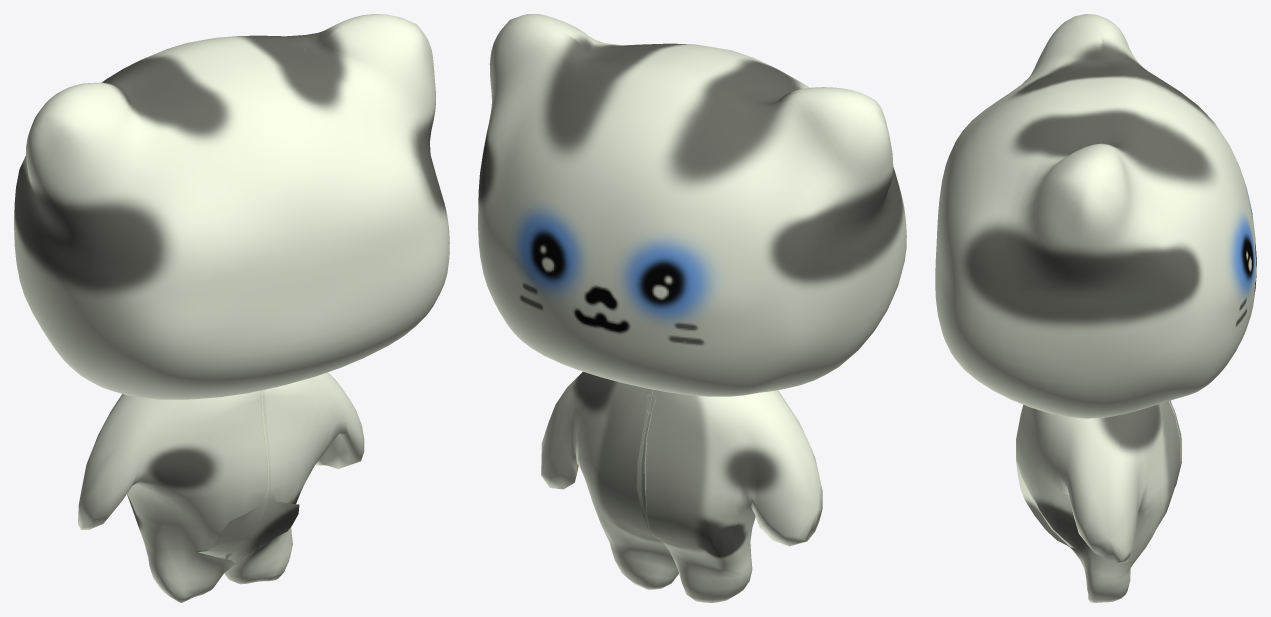
The model's file is White_Cat1.fbx.
3 renders of one model, left to right at view 1: azimuth 30°, elevation 25°; view 2: azimuth 150°, elevation 25°; view 3: azimuth 270°, elevation 25°, orthographic. The views are drawn at different scales.
Parts seen in each view (by area): view 1: Head, Body; view 2: Head, Body; view 3: Head, Body.
Boxes of the visible parts, x1=… form: Head: x1=14, y1=14, x2=449, y2=399; Body: x1=78, y1=372, x2=364, y2=602; Head: x1=478, y1=14, x2=906, y2=396; Body: x1=541, y1=372, x2=822, y2=602; Head: x1=935, y1=14, x2=1256, y2=418; Body: x1=1016, y1=400, x2=1181, y2=602.
Bounding box in the file's own units: 180 × 233 × 136.
Materials: 1 (1 with a texture image).
